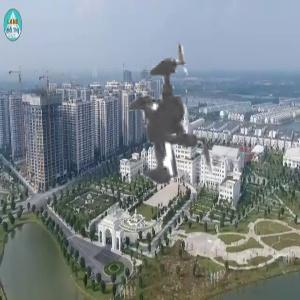drone: (34, 4, 280, 250)
